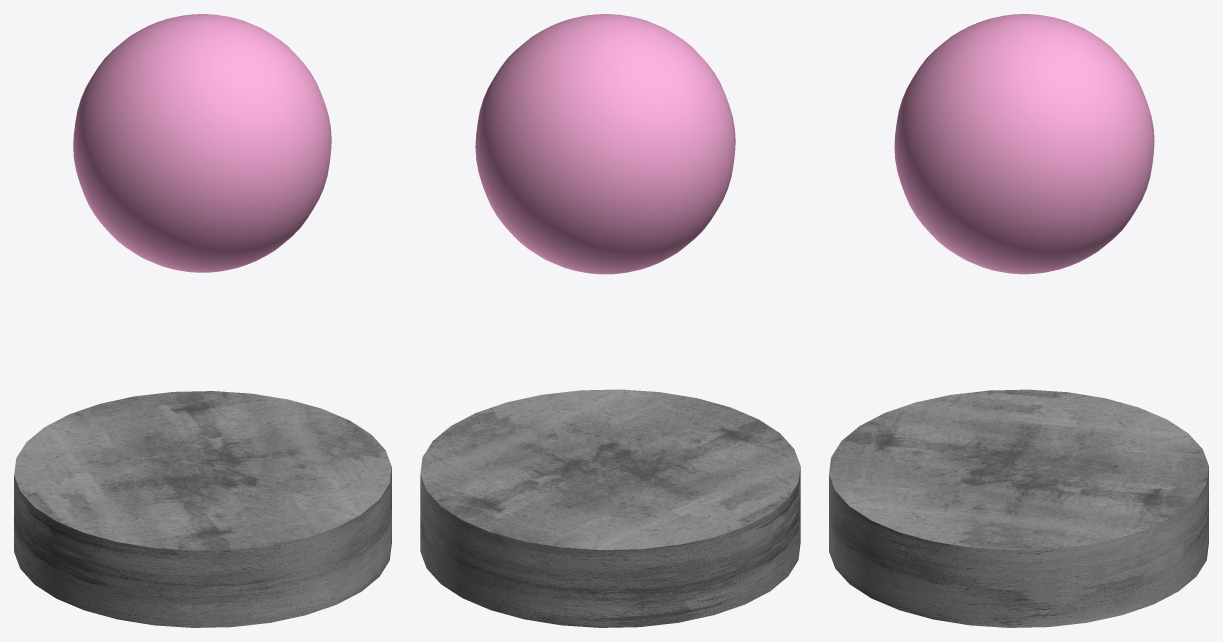
File: sphPink.glb
3 views of the same model, side by side, from view 1: azimuth 30°, elevation 25°; view 2: azimuth 150°, elevation 25°; view 3: azimuth 270°, elevation 25° (orthographic).
Visible parts, largest first — view 1: 029_Cylinder_-_baked_12, 028_Sphere_3; view 2: 029_Cylinder_-_baked_12, 028_Sphere_3; view 3: 029_Cylinder_-_baked_12, 028_Sphere_3.
Boxes of the visible parts, x1,y1,x2,y2 form: 029_Cylinder_-_baked_12: (14,391,391,627); 028_Sphere_3: (73,14,331,272); 029_Cylinder_-_baked_12: (420,389,800,627); 028_Sphere_3: (475,14,735,274); 029_Cylinder_-_baked_12: (829,389,1208,627); 028_Sphere_3: (894,14,1154,274).
Size of the model in its own units: 17.32 by 26.29 by 17.32.
Materials: 2 (1 with a texture image).
